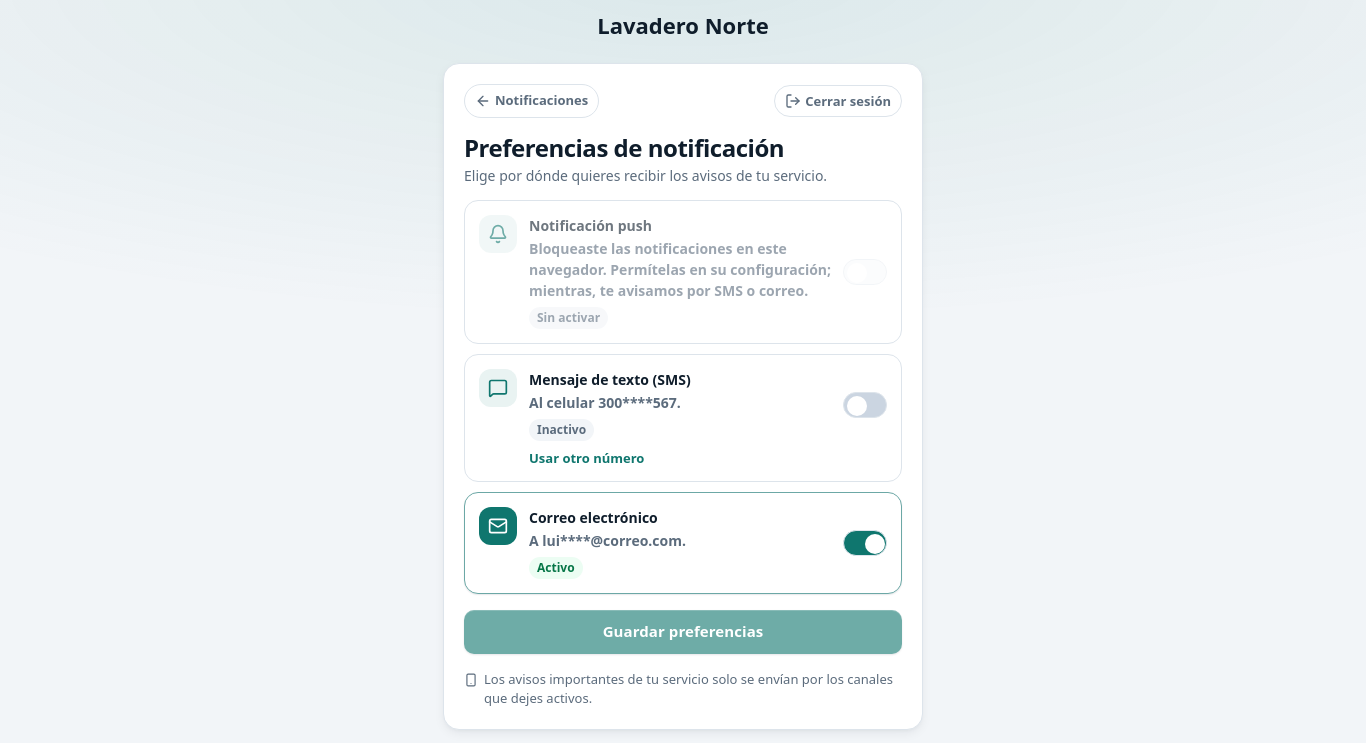
Test case: HU-29 · pantalla de preferencias › CA2: puede validar otro número y un código incorrecto muestra los intentos que quedan
Expected: the heading "Preferencias de notificación" is shown, [464,130,784,164]
Click the button "Usar otro número".
click(562, 465)  # box [465,449,658,481]
(page scrolled)
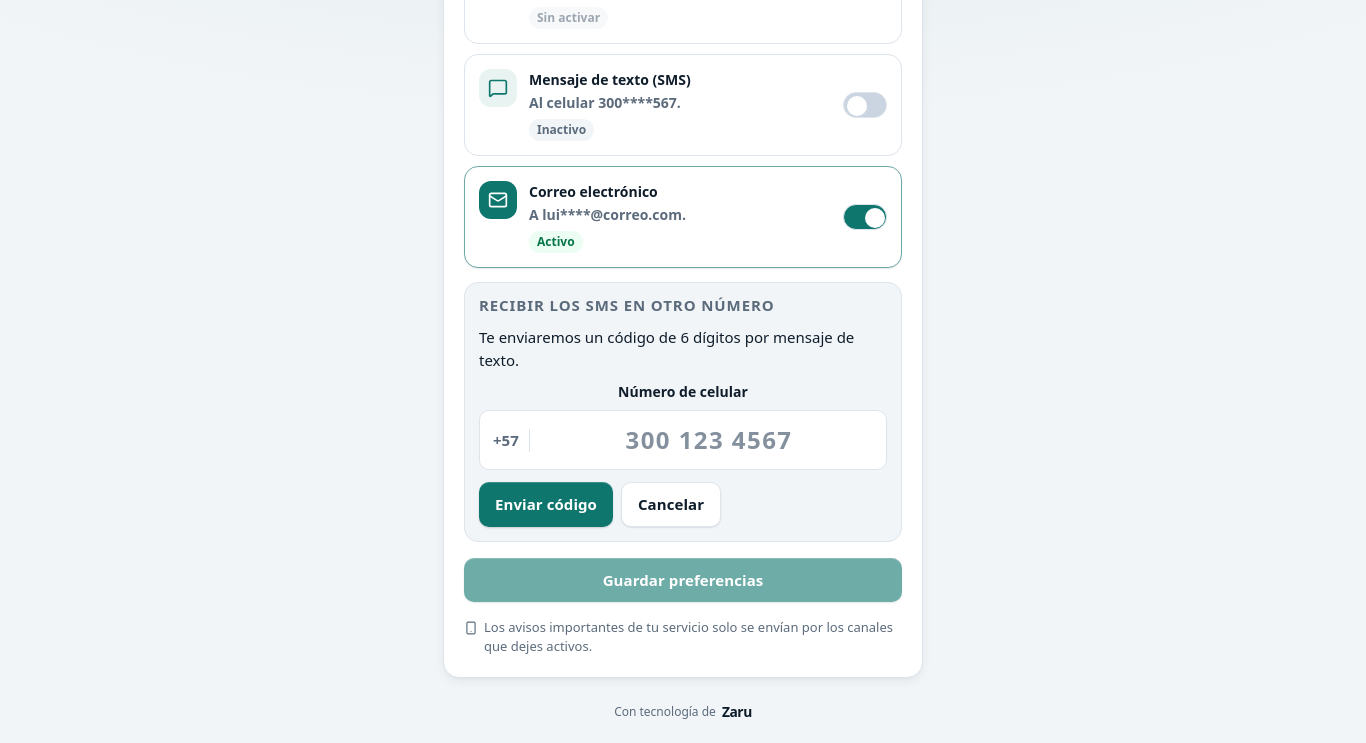
Type "310 999 8877" into the field labelled "Número de celular".
click(683, 440); type("310 999 8877")  # box [479,410,887,470]
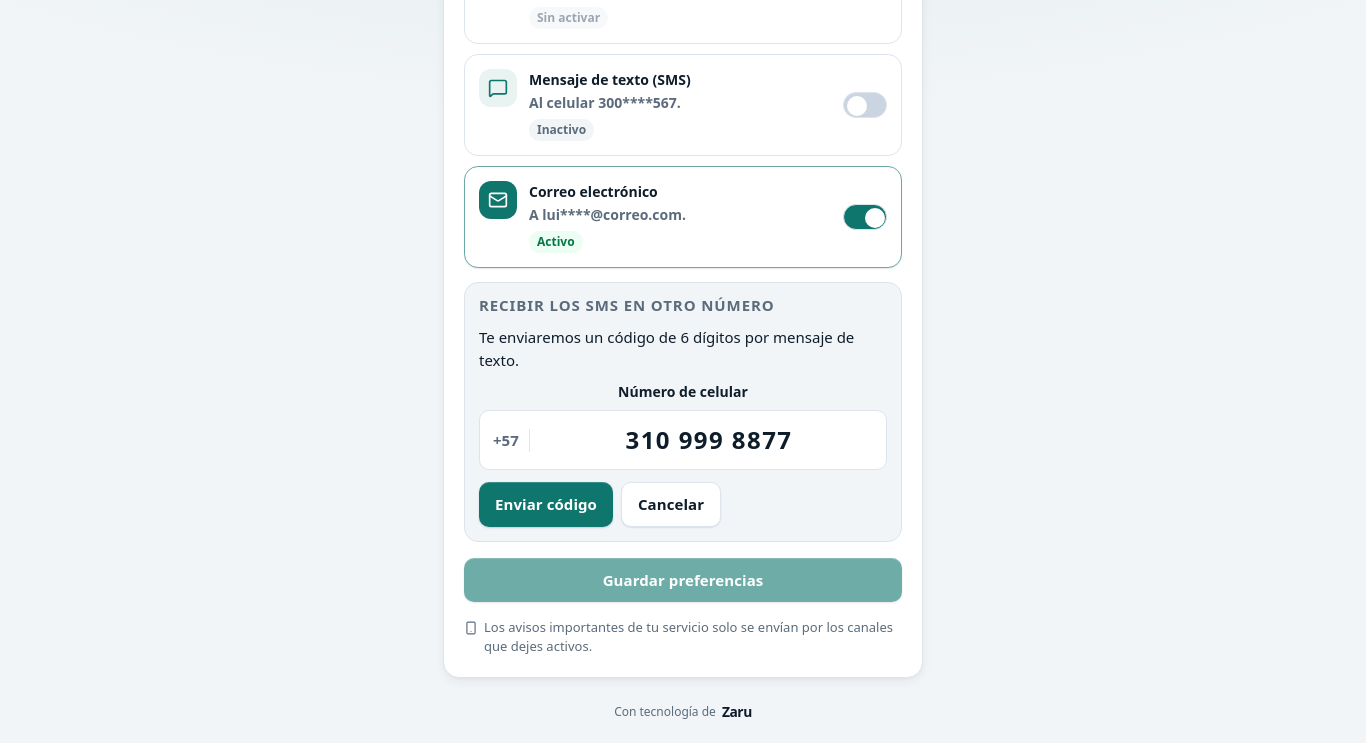
Click the button "Enviar código".
click(546, 505)  # box [479,482,613,527]
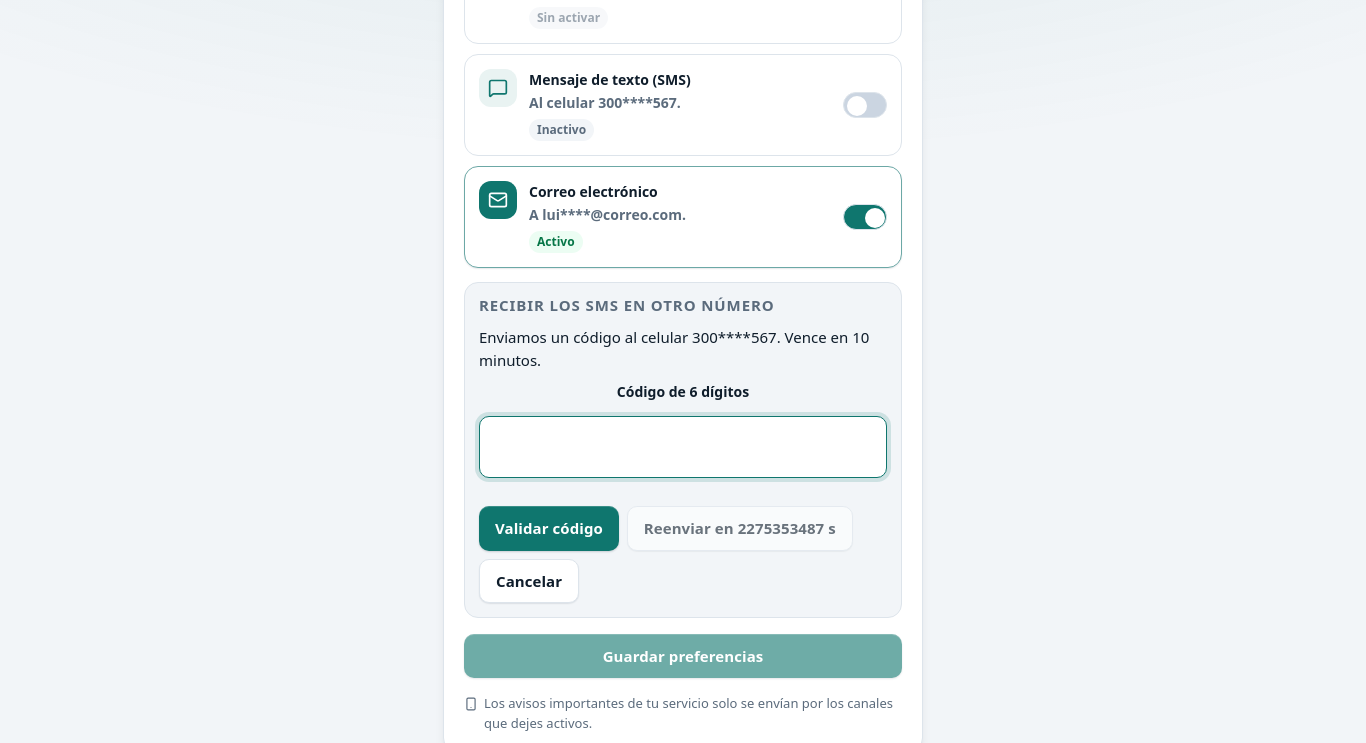
Now the field labelled "Código de 6 dígitos" is shown
Type "111111" into the field labelled "Código de 6 dígitos".
click(683, 447); type("111111")  # box [479,416,887,478]
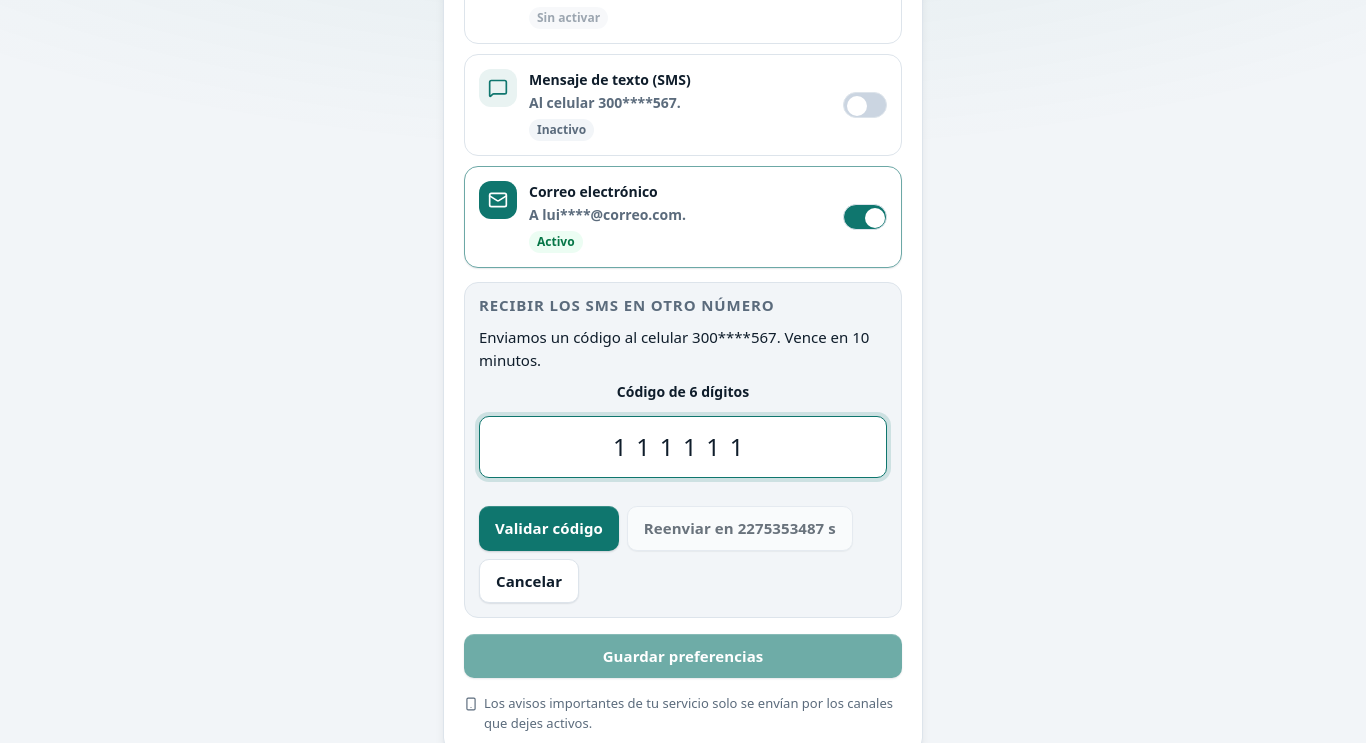
Click the button "Validar código".
click(549, 529)  # box [479,506,619,551]
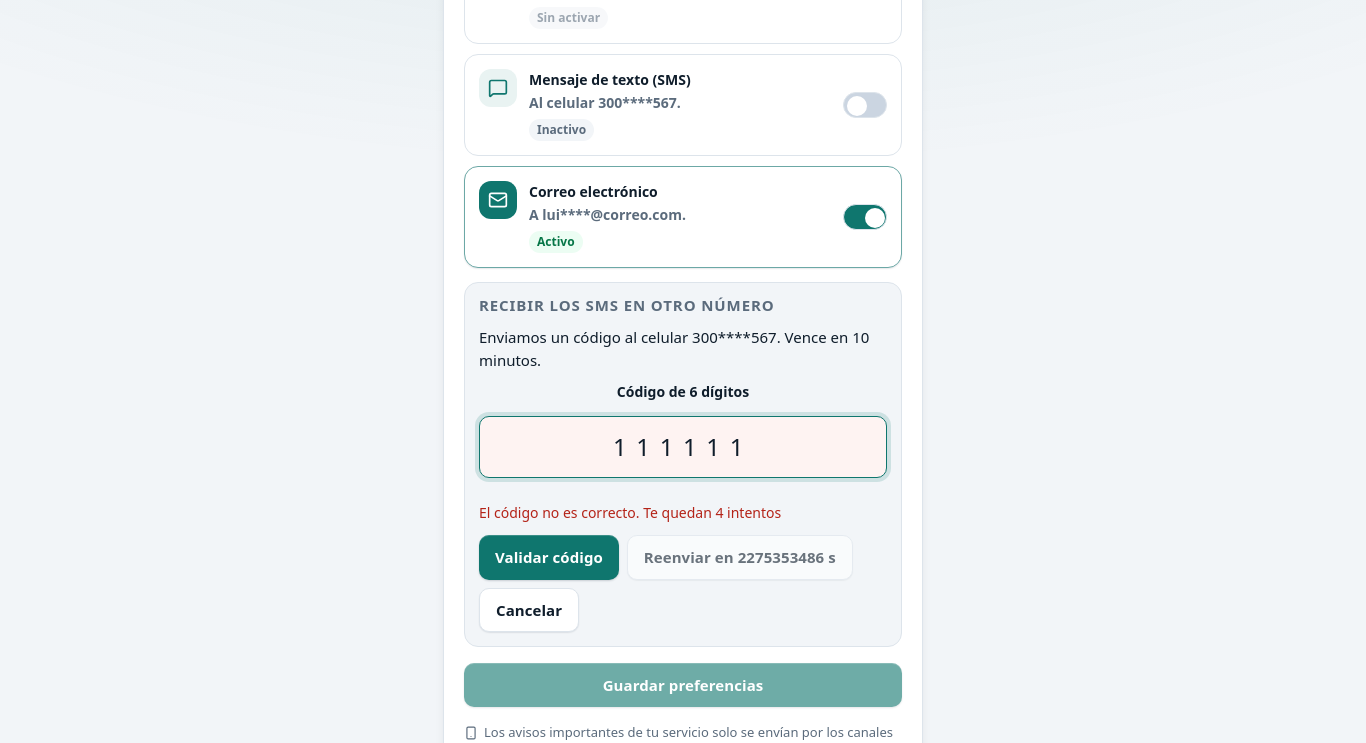
Expected: the switch labelled "Mensaje de texto (SMS)" is not checked, [843,92,887,118]
Now the message "El código no es correcto. Te quedan 4 intentos" is shown, box [479,503,781,522]
